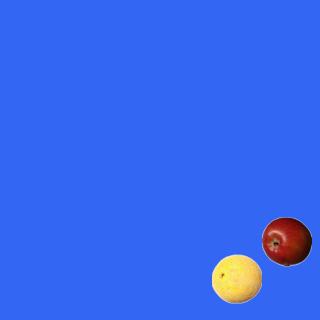Apple Braeburn: (261, 216, 311, 266)
Cantaloupe 1: (211, 253, 261, 303)
